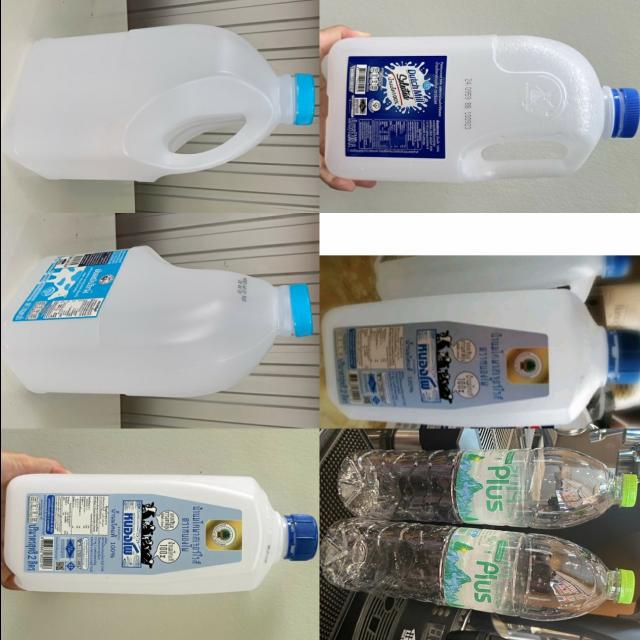plastik: (3, 25, 313, 182), (0, 246, 312, 397), (325, 35, 639, 183), (321, 290, 640, 427), (5, 475, 317, 594), (320, 518, 633, 620), (337, 447, 636, 528)
